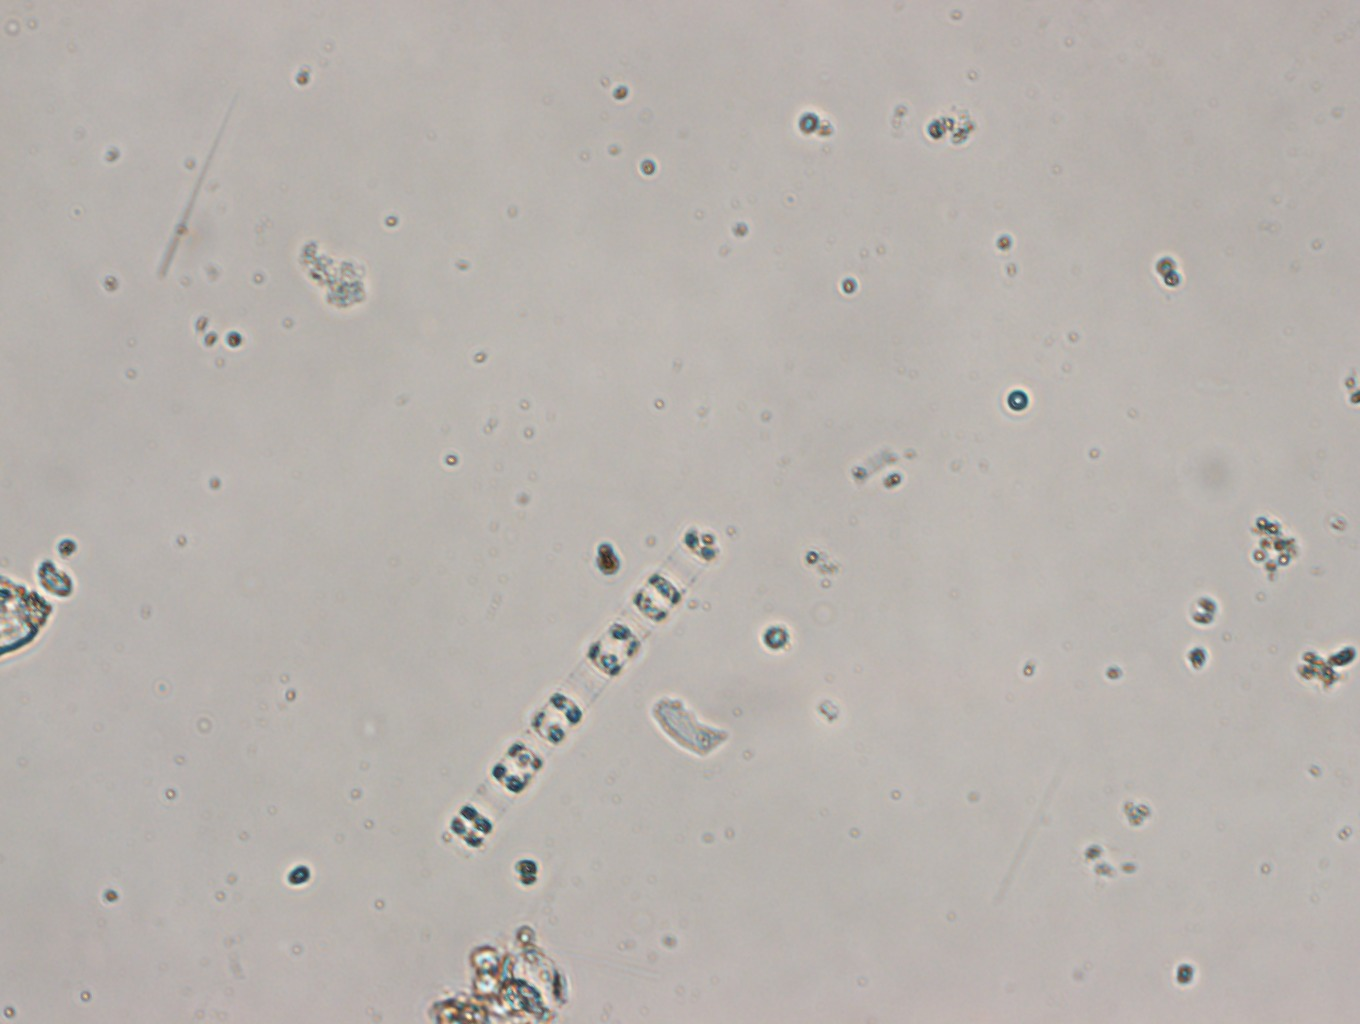skeletonema: (438, 529, 717, 847)
